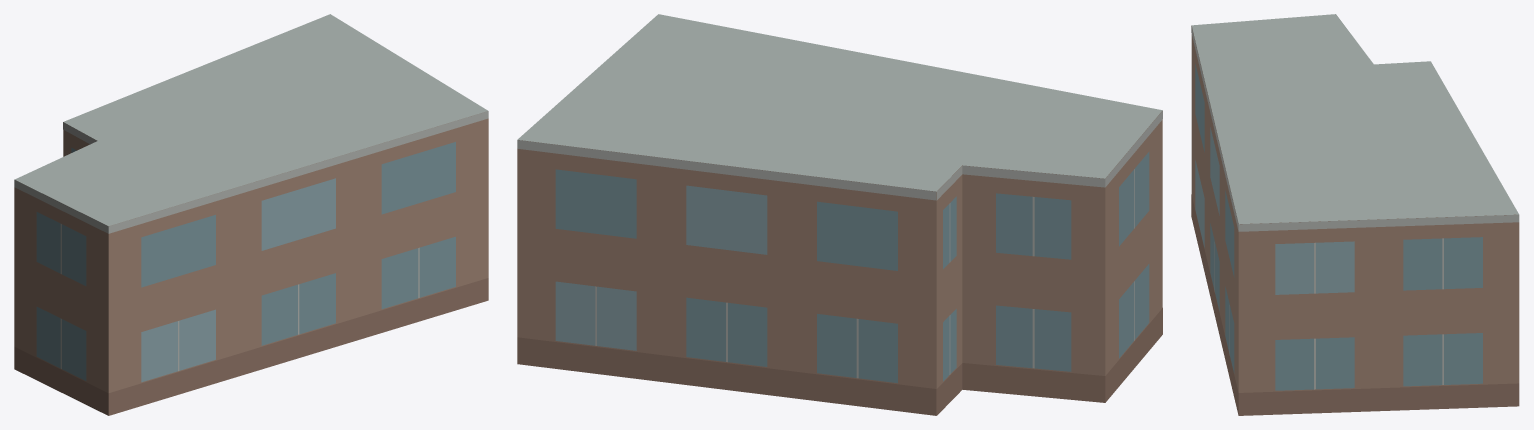
Rendered from survey-upis-32500815.glb.
The picture shows the model from 3 angles, left to right: view 1: azimuth 30°, elevation 25°; view 2: azimuth 150°, elevation 25°; view 3: azimuth 270°, elevation 25°; orthographic projection. The views are drawn at different scales.
Parts seen in each view (by area): view 1: survey-upis-32500815.tmp; view 2: survey-upis-32500815.tmp; view 3: survey-upis-32500815.tmp.
Boxes of the visible parts, x1,y1,x2,y2 form: survey-upis-32500815.tmp: [14, 14, 488, 415]; survey-upis-32500815.tmp: [517, 14, 1162, 415]; survey-upis-32500815.tmp: [1191, 14, 1519, 415].
Bounding box in the file's own units: 14.35 × 6.1 × 9.46.
